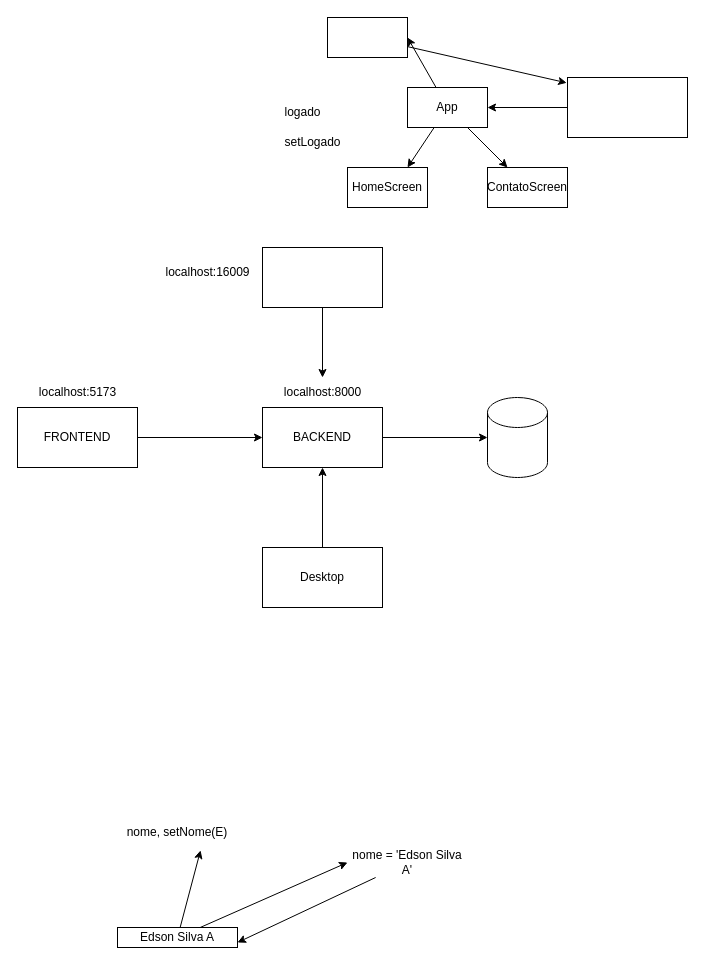
This 705x968 diagram has some shape labels left out. Here are the shapes that lost their labels. From the top down, the centre of each, then its label:
point (367, 37): LoginScreen
point (627, 107): AuthContext
point (322, 277): APP_MOBILE
point (517, 437): Bd
